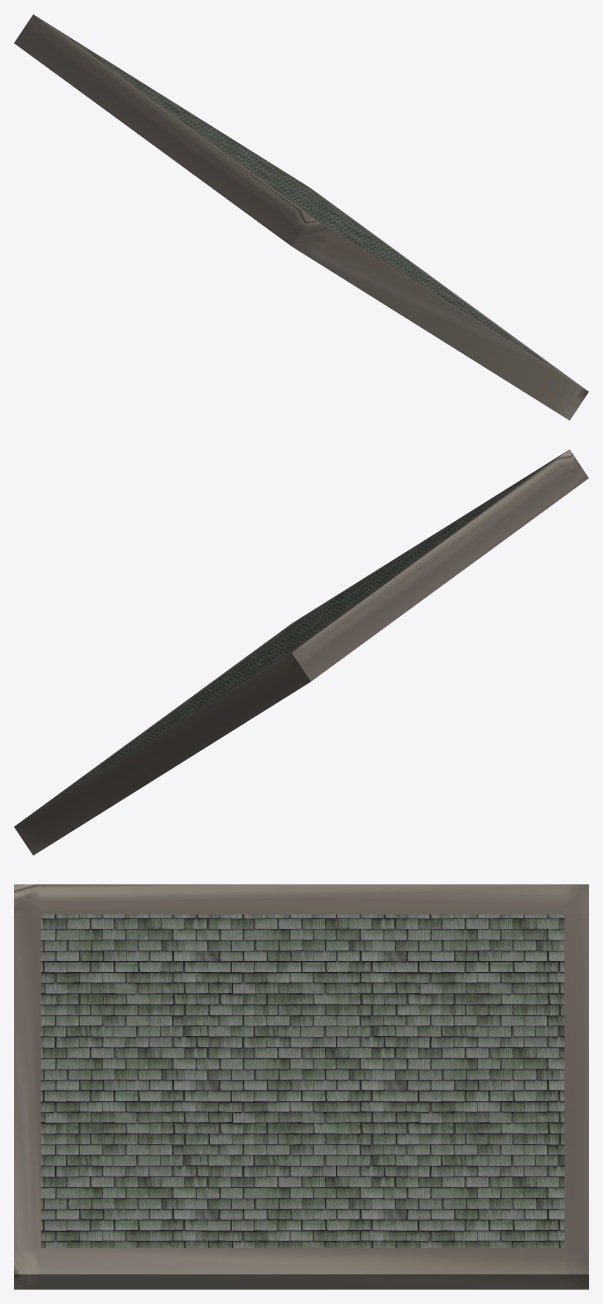
File: roof_lg.glb
3 views of the same model, one above another, from view 1: azimuth 30°, elevation 25°; view 2: azimuth 150°, elevation 25°; view 3: azimuth 270°, elevation 25° (orthographic). The views are drawn at different scales.
Visible parts, largest first — view 1: roof_lg; view 2: roof_lg; view 3: roof_lg.
Part boxes in pixels (x1,y1,x2,y2): roof_lg: (14,14,588,420); roof_lg: (14,449,588,855); roof_lg: (14,884,588,1289).
Size of the model in its own units: 9.87 by 8.44 by 16.
Materials: 3 (3 with a texture image).
